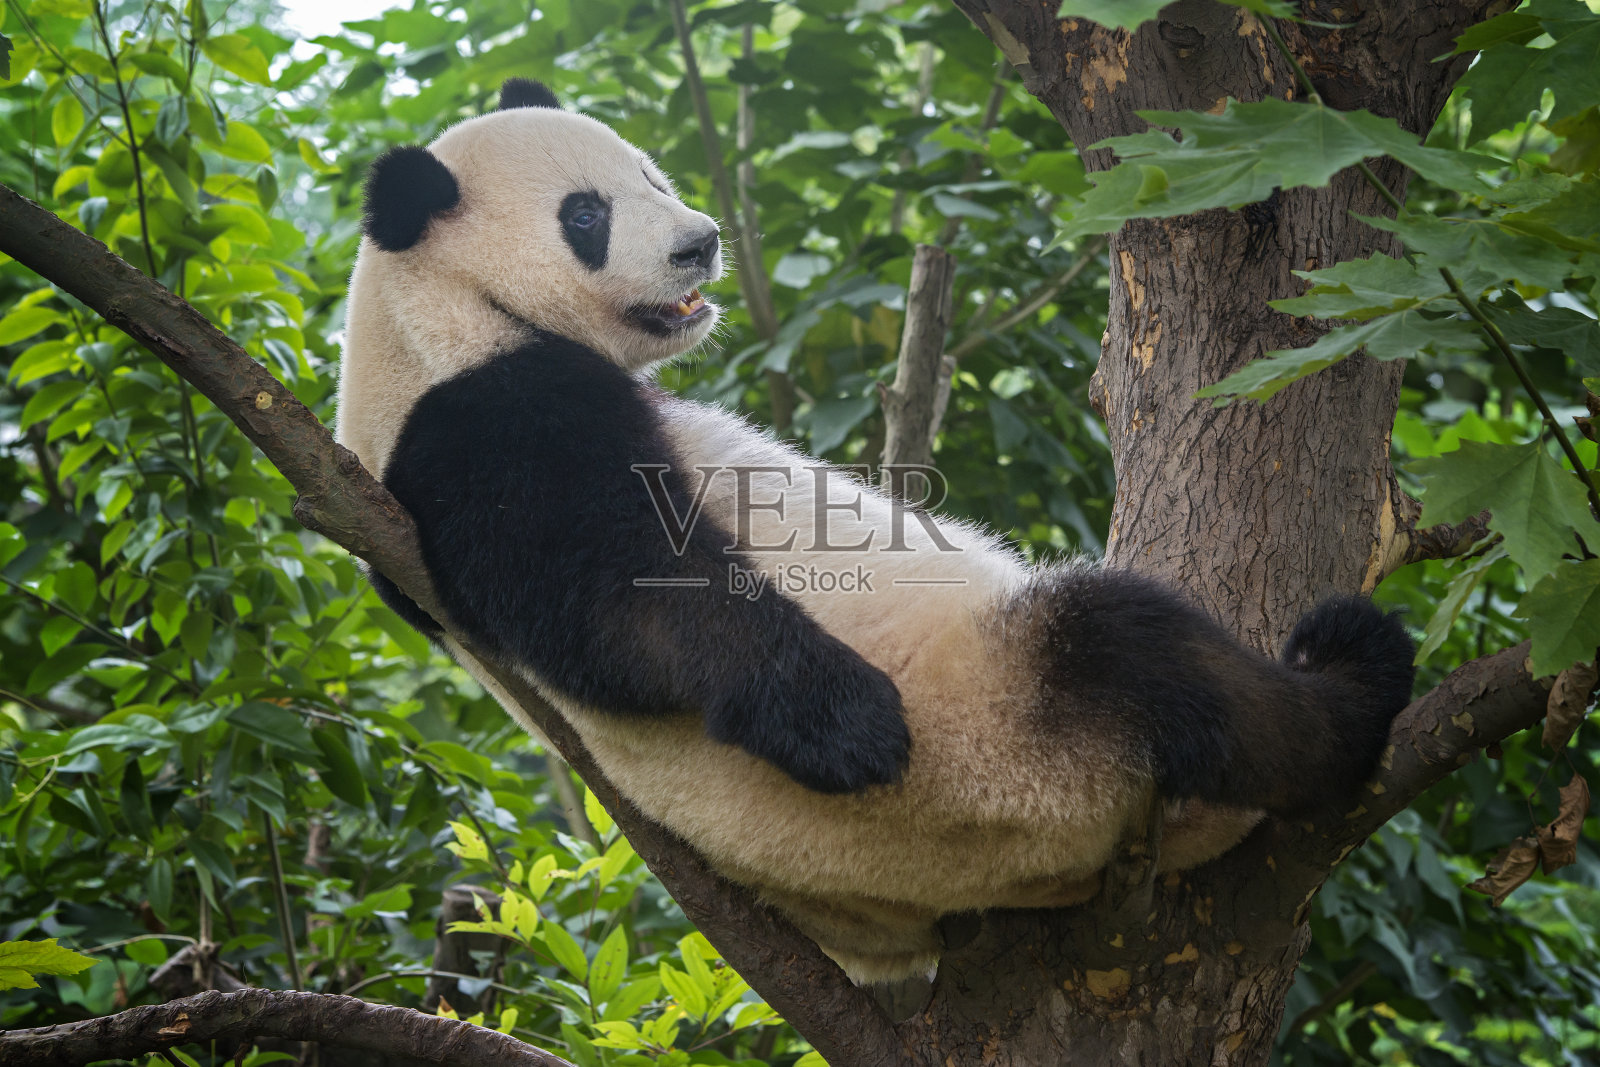panda: (265, 76, 1427, 917)
